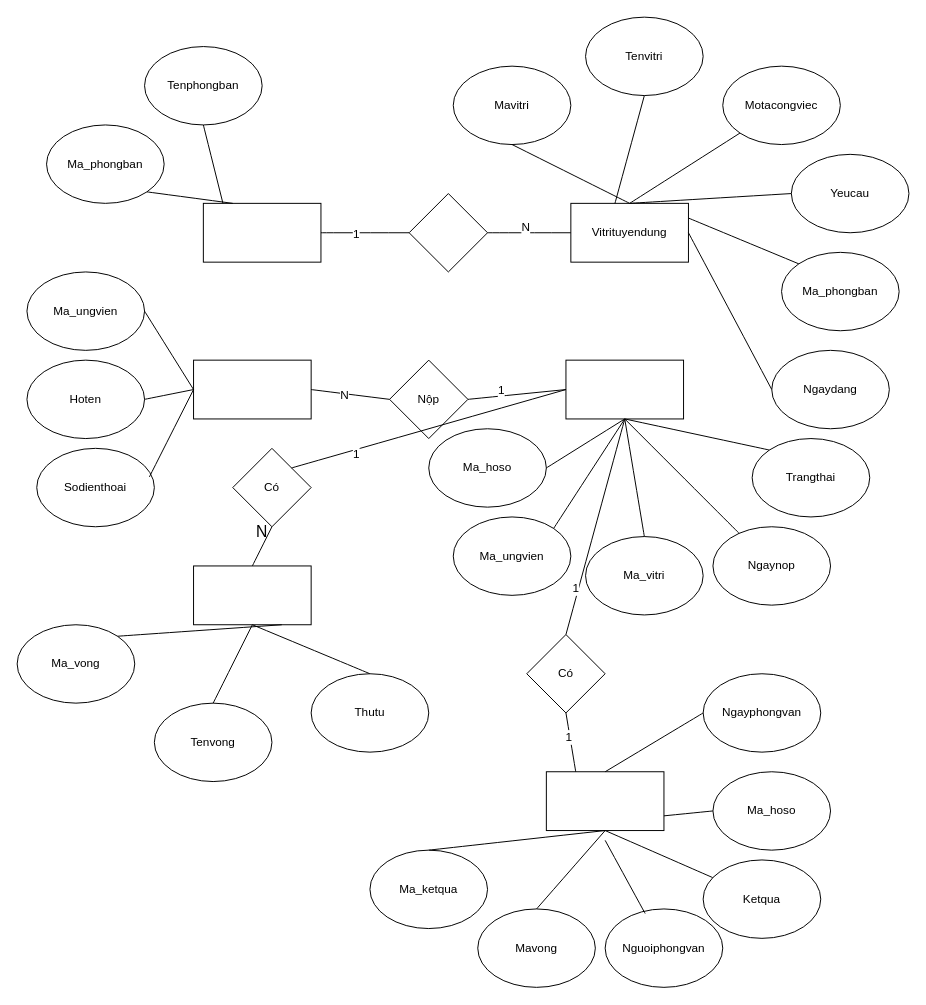
The diagram is 926 pixels wide and 1005 high, and some of its shapes have lost their labels. Here are the shapes that lost their labels. From the top down, the box of each, then its label:
(202, 202, 321, 262): Phongban
(408, 193, 488, 272): đăng
(193, 359, 311, 419): Ungvien
(565, 359, 684, 419): Hosoungtuyen
(193, 565, 311, 625): Vongphongvan
(545, 771, 664, 831): Ketquaphongvan
